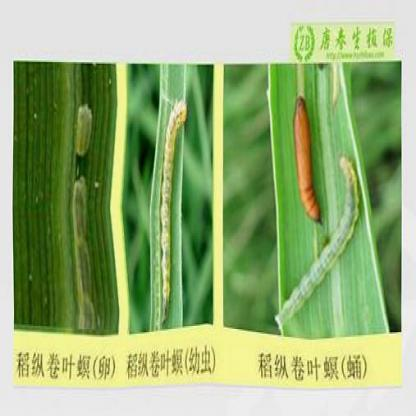leaf-folder: (270, 87, 366, 304), (152, 94, 190, 310), (72, 96, 102, 326)
